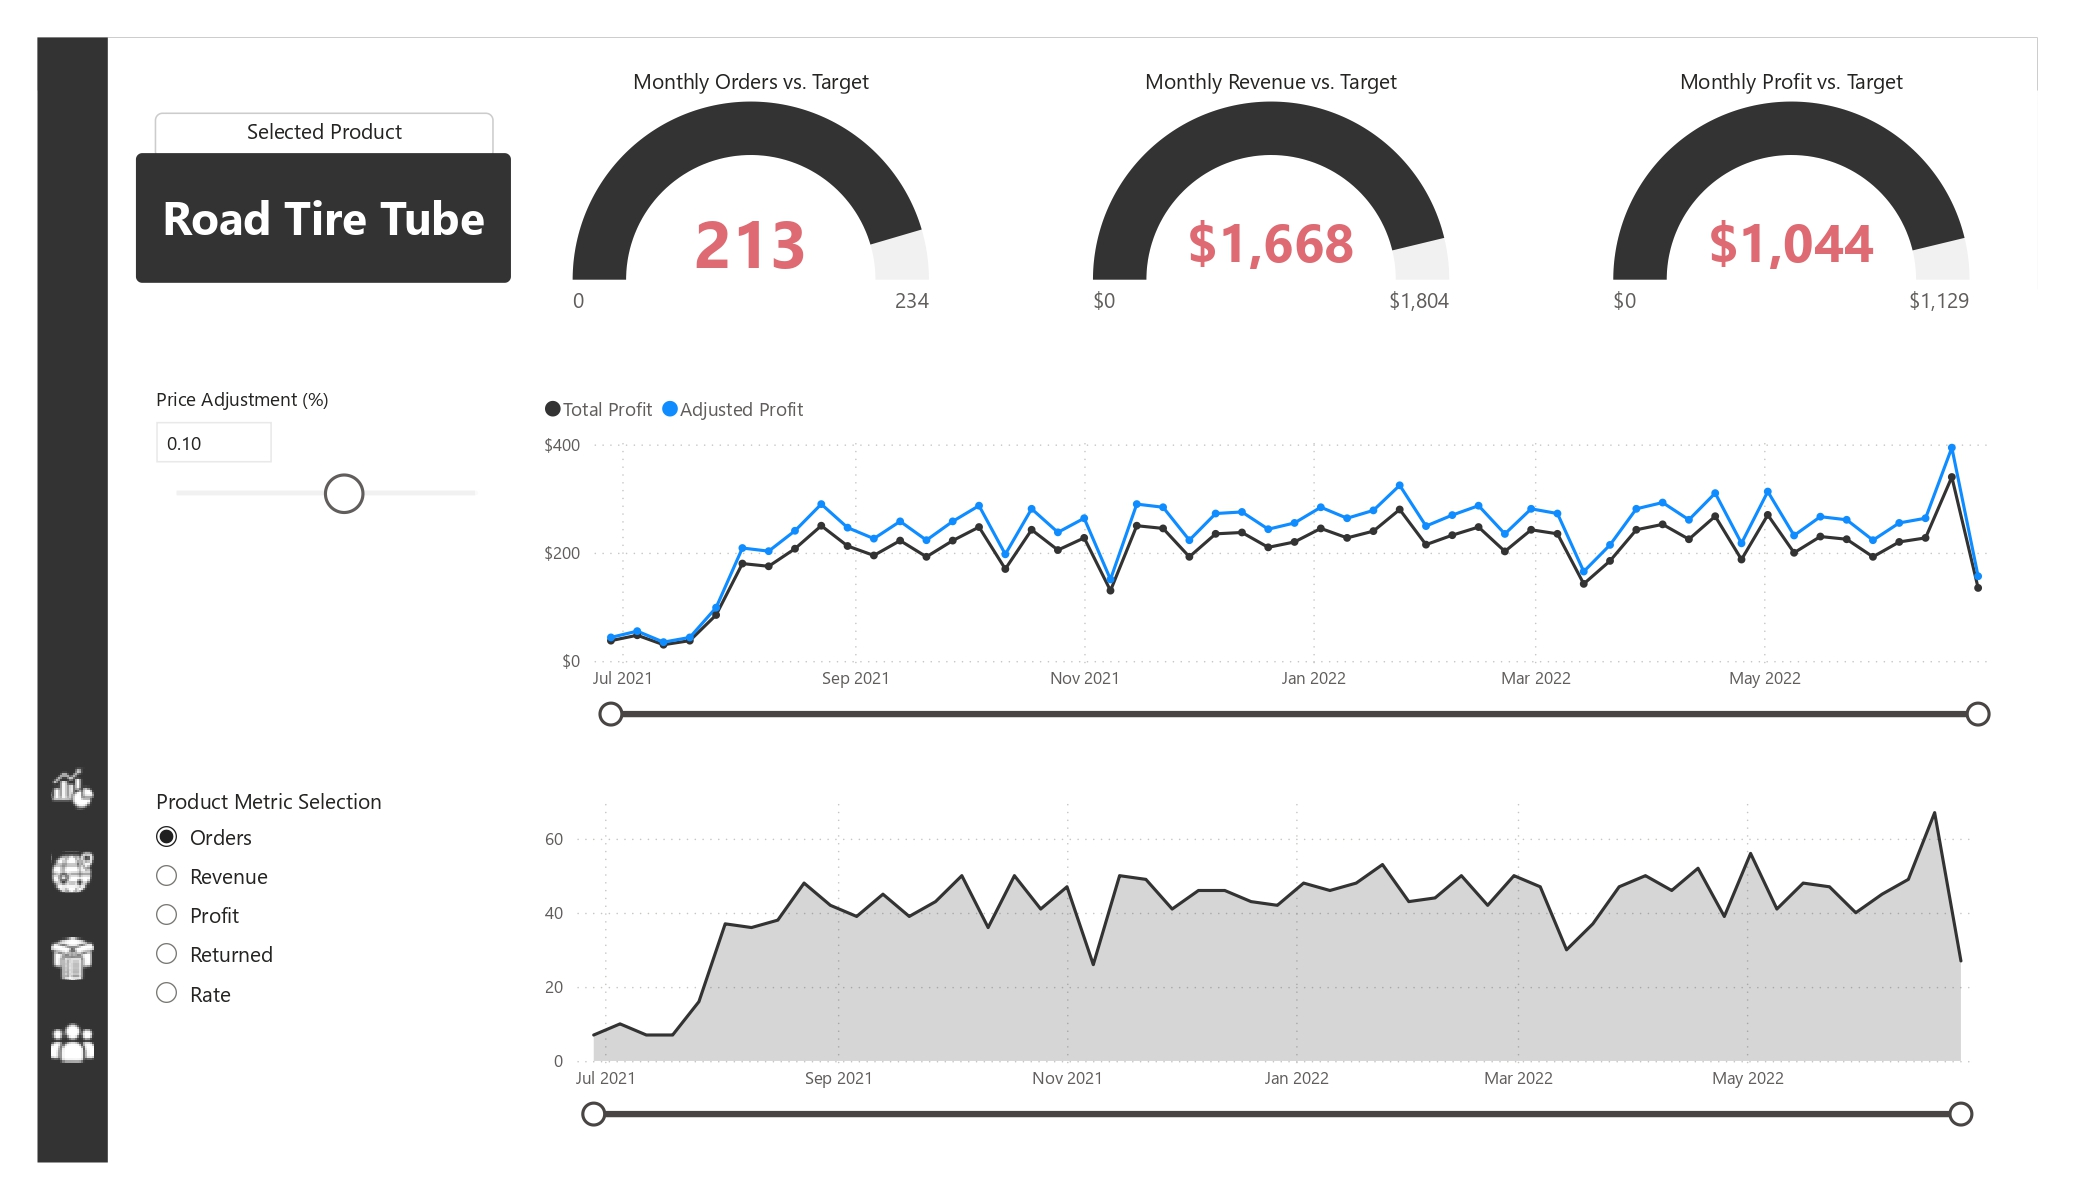

This screenshot's page, from the dashboard's own definition file:
{"tool":"powerbi","page":{"name":"Product Detail","canvas":[1280,720],"ordinal":2},"visuals":[{"type":"shape","box":[0,0,45,720],"z":0},{"type":"textbox","box":[74.9,48,217,30],"z":500,"group":"g1"},{"type":"gauge","title":"Monthly Orders vs. Target","fields":{"Y":["Measuer Table.Total Orders"],"MaxValue":["Measuer Table.Order Target"]},"box":[319,19,275,168],"z":1000},{"type":"actionButton","box":[5,463,35,35],"z":1000,"group":"g2"},{"type":"gauge","title":"Monthly Revenue vs. Target","fields":{"Y":["Measuer Table.Total Revenue"],"MaxValue":["Measuer Table.Revenue Target"]},"box":[652,19,275,168],"z":2000},{"type":"actionButton","box":[5,517.3,35,35],"z":2000,"group":"g2"},{"type":"gauge","title":"Monthly Profit vs. Target","fields":{"Y":["Measuer Table.Total Profit"],"MaxValue":["Measuer Table.Profit Target"]},"box":[985,19,275,168],"z":3000},{"type":"actionButton","box":[5,571.7,35,35],"z":3000,"group":"g2"},{"type":"lineChart","title":"Profit Trending","fields":{"Category":["Calendar Lookup.Date Hierarchy.Start of Year","Calendar Lookup.Date Hierarchy.Start of Month","Calendar Lookup.Date Hierarchy.Start of Week","Calendar Lookup.Date Hierarchy.Date"],"Y":["Measuer Table.Total Profit","Measuer Table.Adjusted Profit"]},"box":[319.1,218.2,951.8,225.5],"z":4000},{"type":"actionButton","box":[5,626,35,35],"z":4000,"group":"g2"},{"type":"areaChart","title":"Returns Trending","fields":{"Y":["Measuer Table.Total Orders"],"Category":["Calendar Lookup.Date Hierarchy.Start of Year","Calendar Lookup.Date Hierarchy.Start of Month","Calendar Lookup.Date Hierarchy.Start of Week","Calendar Lookup.Date Hierarchy.Date"]},"box":[319.1,475.5,940.9,224.5],"z":5000},{"type":"group","id":"g1","title":"Group 1","box":[63,48,240,109],"z":6000},{"type":"card","fields":{"Values":["Min(Product Lookup.ProductName)"]},"box":[63,74,240,83],"z":7000,"group":"g1"},{"type":"group","id":"g2","title":"Navigation Buttons","box":[5,463,35,198],"z":7000},{"type":"slicer","fields":{"Values":["Price Adjustment (%).Price Adjustment (%)"]},"box":[62.7,218.2,240,96.4],"z":8000},{"type":"slicer","fields":{"Values":["product Metric Selection.product Metric Selection"]},"box":[62.7,475.5,240,167.3],"z":9000}]}

Visuals, with their boxes on the page's 1280x720 design canvas (x1, y1, x2, y2). These are canvas units, not pixel positions in the 2075x1200 screenshot, which may show the page scaled, cropped or inside an application window:
shape: pyautogui.locateOnScreen(0, 0, 45, 720)
textbox: pyautogui.locateOnScreen(75, 48, 292, 78)
"Monthly Orders vs. Target" gauge: pyautogui.locateOnScreen(319, 19, 594, 187)
actionButton: pyautogui.locateOnScreen(5, 463, 40, 498)
"Monthly Revenue vs. Target" gauge: pyautogui.locateOnScreen(652, 19, 927, 187)
actionButton: pyautogui.locateOnScreen(5, 517, 40, 552)
"Monthly Profit vs. Target" gauge: pyautogui.locateOnScreen(985, 19, 1260, 187)
actionButton: pyautogui.locateOnScreen(5, 572, 40, 607)
"Profit Trending" lineChart: pyautogui.locateOnScreen(319, 218, 1271, 444)
actionButton: pyautogui.locateOnScreen(5, 626, 40, 661)
"Returns Trending" areaChart: pyautogui.locateOnScreen(319, 476, 1260, 700)
"Group 1" group: pyautogui.locateOnScreen(63, 48, 303, 157)
card - Min(Product Lookup.ProductName): pyautogui.locateOnScreen(63, 74, 303, 157)
"Navigation Buttons" group: pyautogui.locateOnScreen(5, 463, 40, 661)
slicer - Price Adjustment (%).Price Adjustment (%): pyautogui.locateOnScreen(63, 218, 303, 315)
slicer - product Metric Selection.product Metric Selection: pyautogui.locateOnScreen(63, 476, 303, 643)
